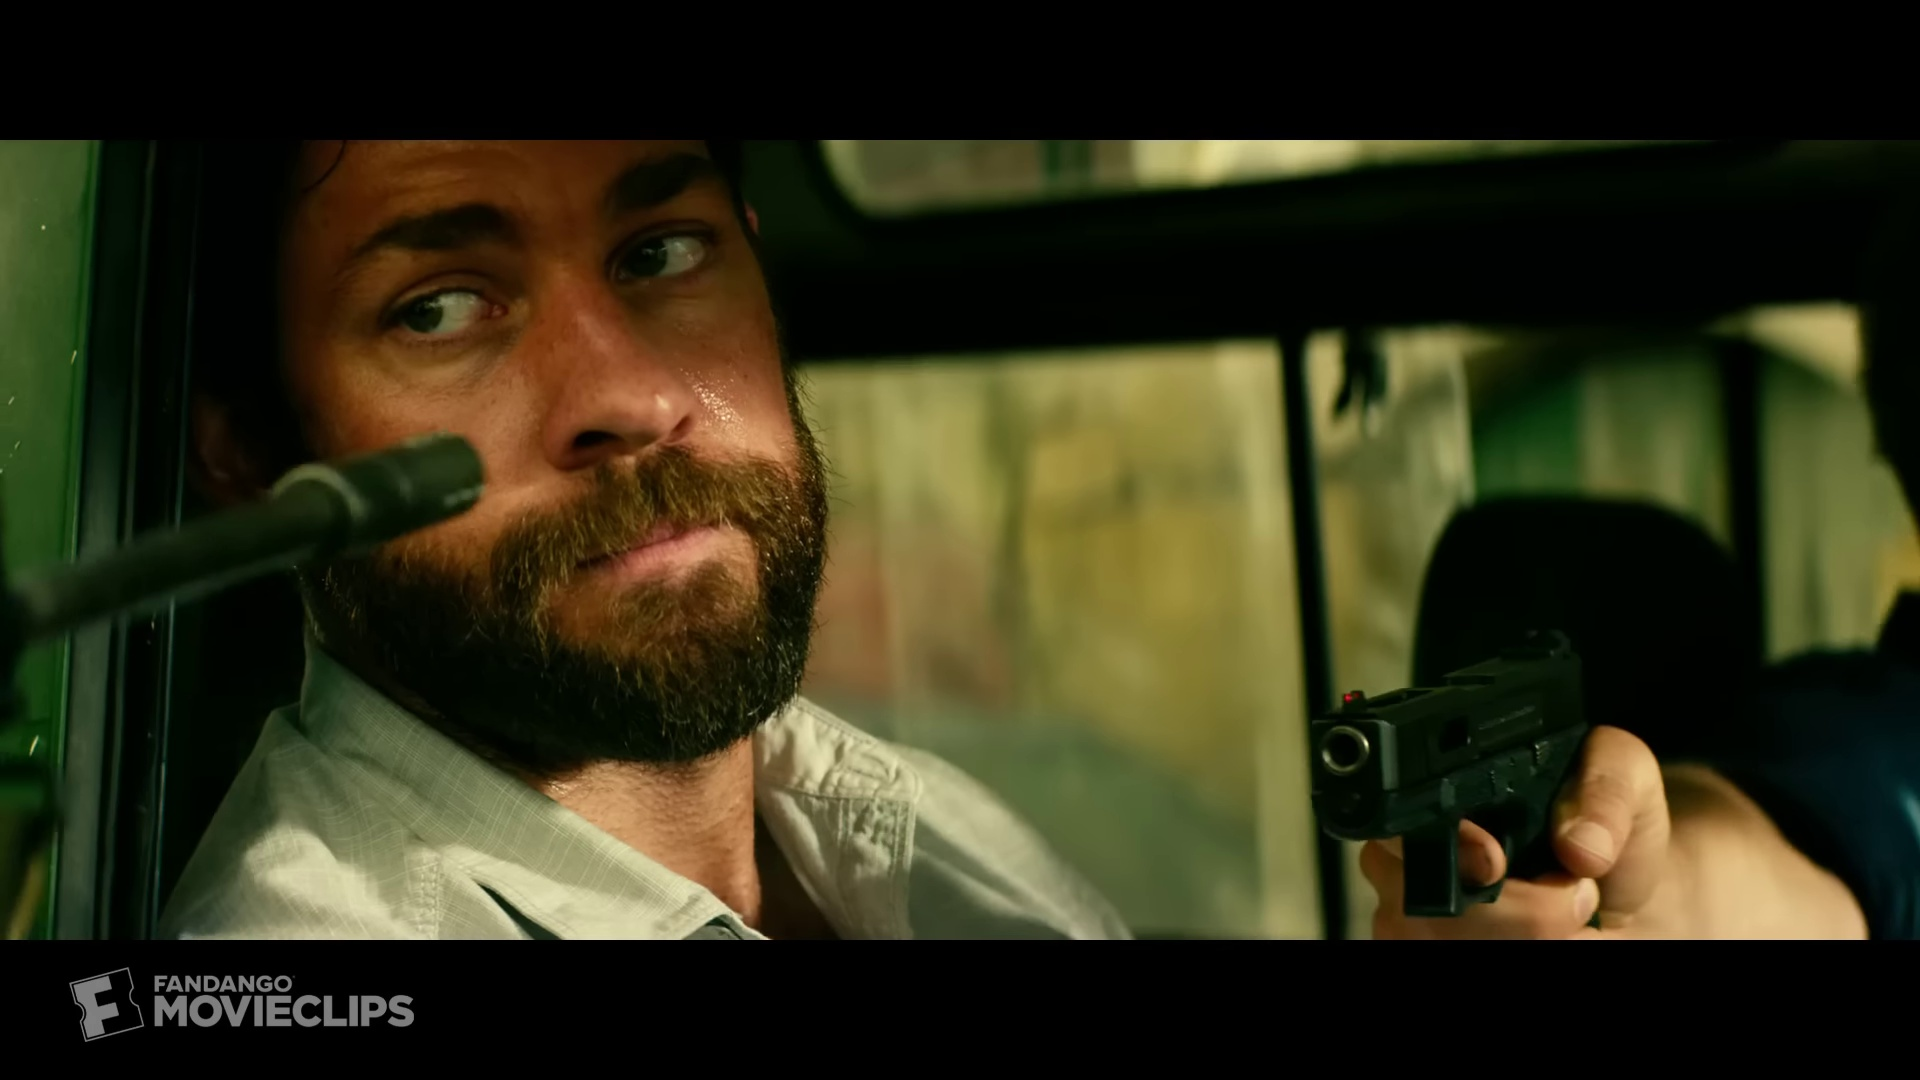gun: (0, 427, 483, 853), (1298, 618, 1629, 945)
p_w_gun: (157, 135, 1127, 943), (1295, 208, 1920, 939)
